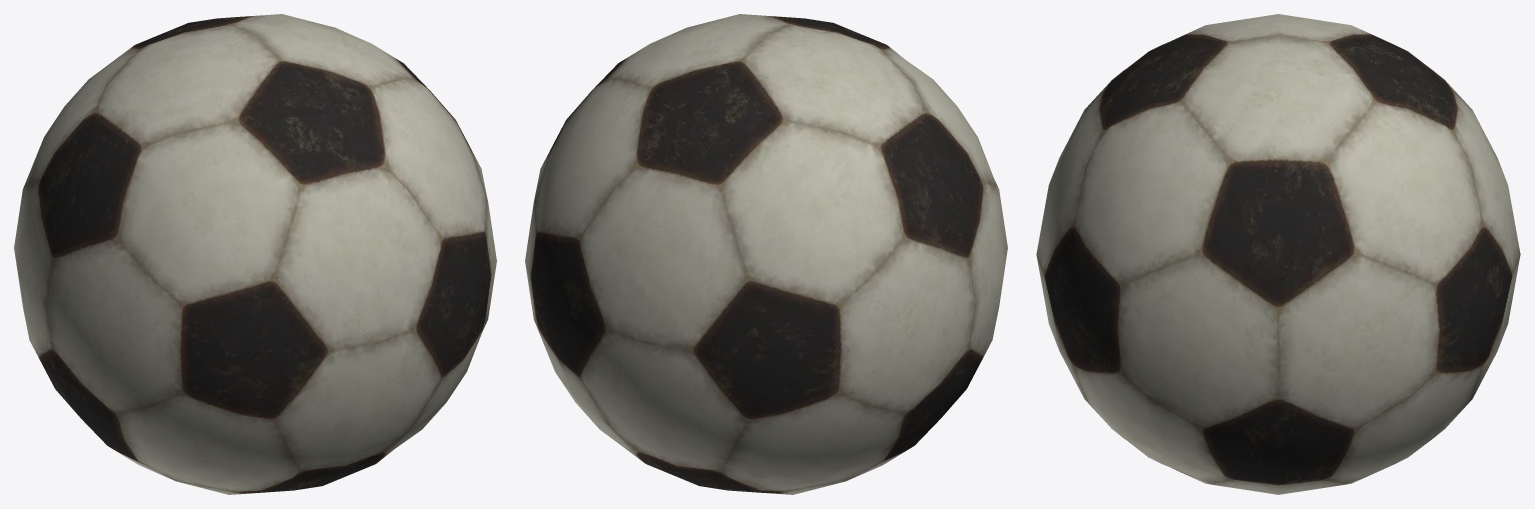
File: soccerBall.glb
3 renders of one model, left to right at view 1: azimuth 30°, elevation 25°; view 2: azimuth 150°, elevation 25°; view 3: azimuth 270°, elevation 25°, orthographic.
Parts seen in each view (by area): view 1: defaultMaterial; view 2: defaultMaterial; view 3: defaultMaterial.
Boxes of the visible parts, x1=… form: defaultMaterial: x1=14, y1=14, x2=496, y2=494; defaultMaterial: x1=525, y1=14, x2=1007, y2=494; defaultMaterial: x1=1036, y1=14, x2=1520, y2=494.
Bounding box in the file's own units: 2 × 2 × 2.
Materials: 1 (1 with a texture image).
